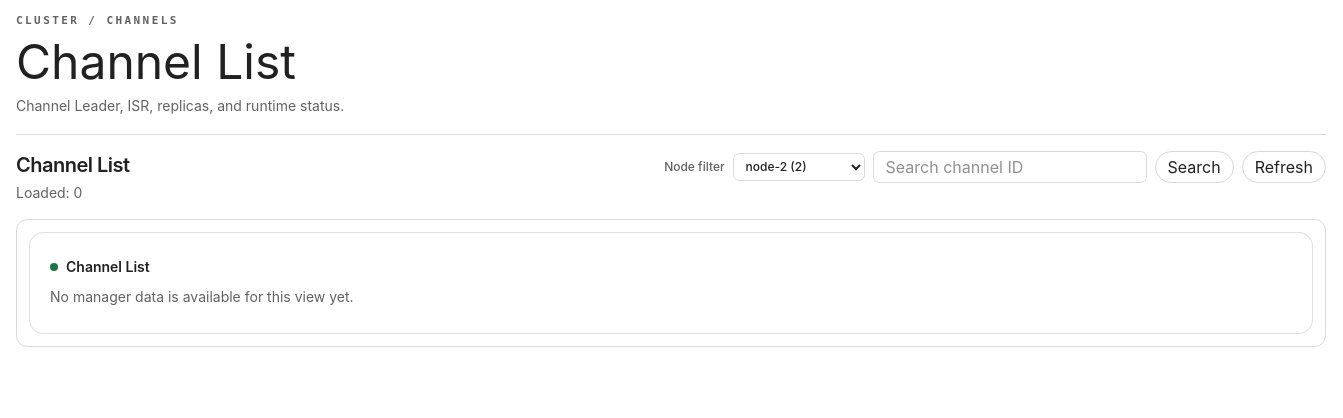
Test case: searches by channel ID and loads more
Expected: the text "No manager data is available for this view yet." is shown, top-left (50, 288), bottom-right (354, 304)
Type "alpha" into the field with placeholder "Search channel ID" at coordinates (1010, 166), box top-left (873, 150), bottom-right (1147, 182)
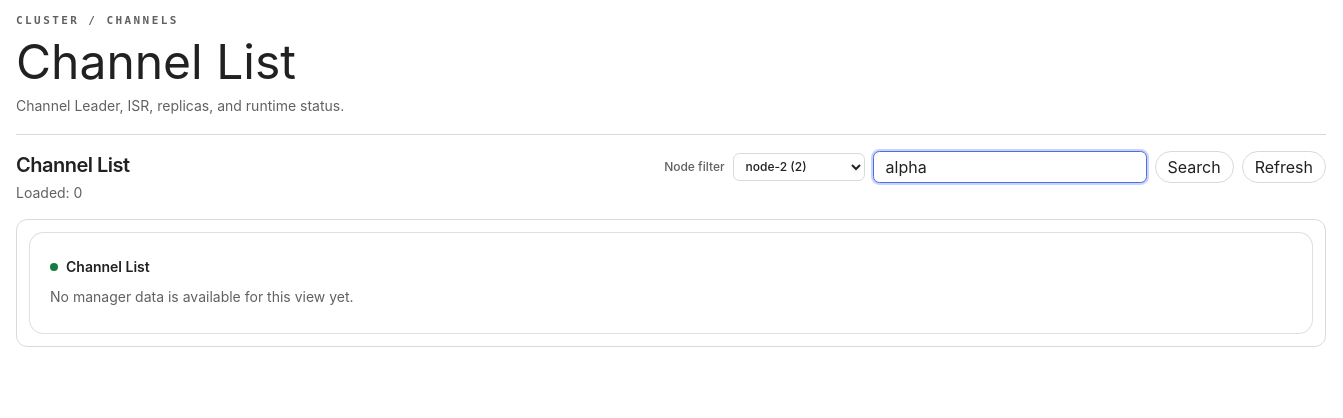
Click the button "Search" at coordinates (1194, 166), box top-left (1155, 150), bottom-right (1234, 182)
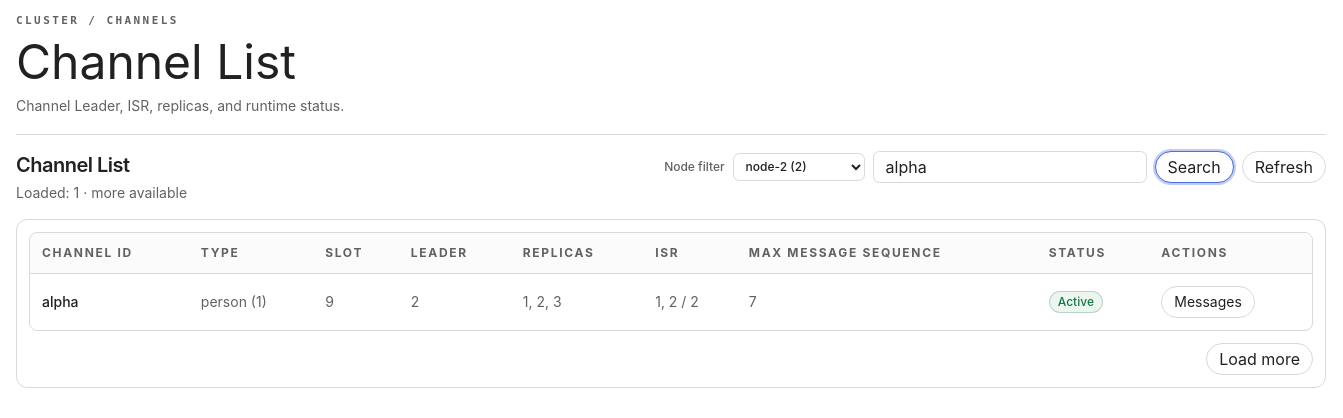
Expected: the text "alpha" is shown, top-left (30, 273), bottom-right (189, 330)
Click the button "Load more" at coordinates (1260, 358), box top-left (1206, 342), bottom-right (1313, 374)
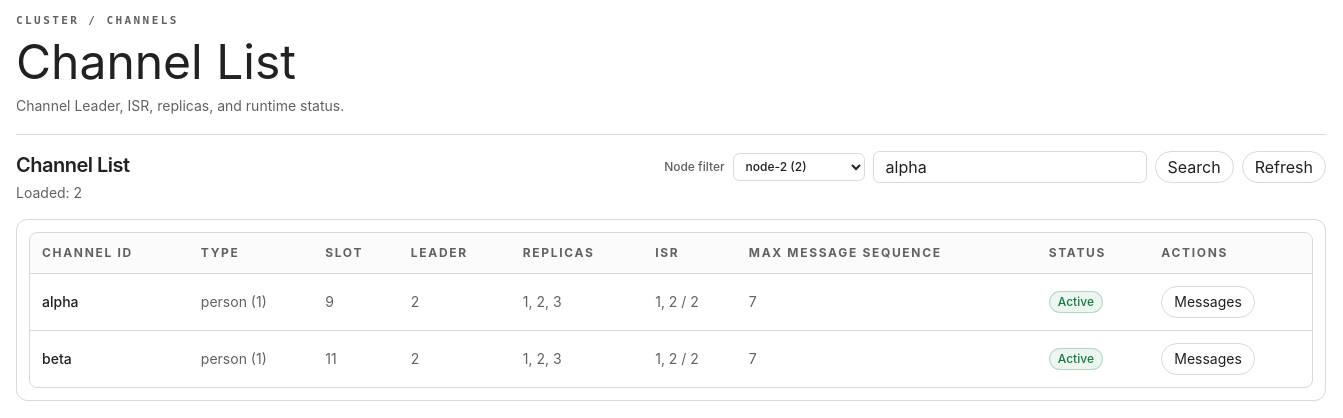
Expected: the text "beta" is shown, top-left (30, 330), bottom-right (189, 386)
